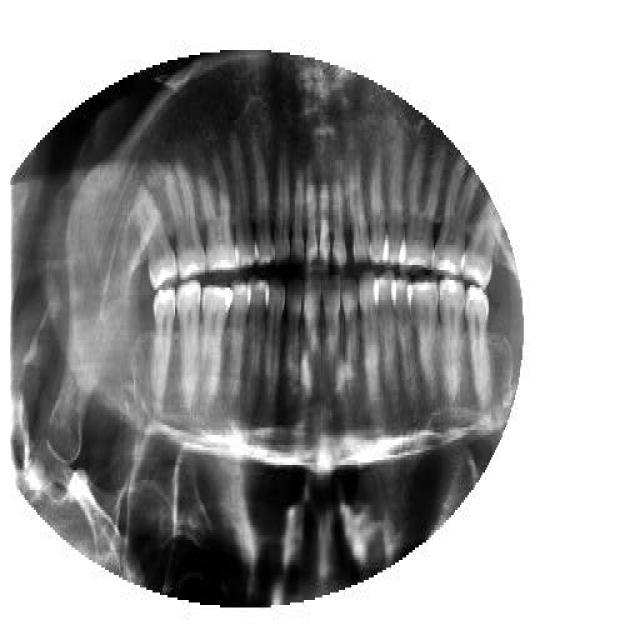Fillings: (201, 283, 235, 405)
